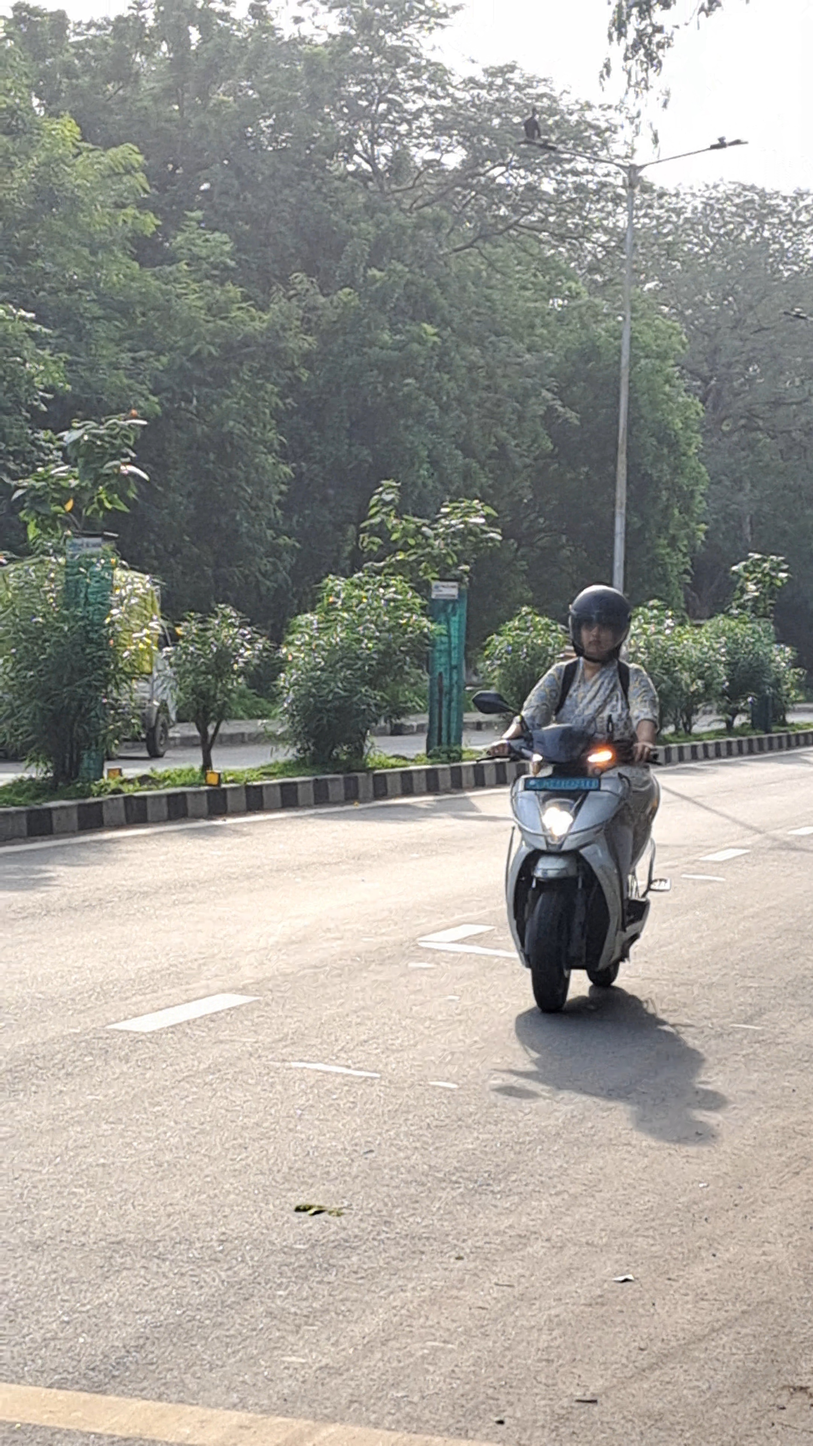BikeWithRider: (456, 576, 686, 1023)
Helmet: (557, 576, 643, 668)
